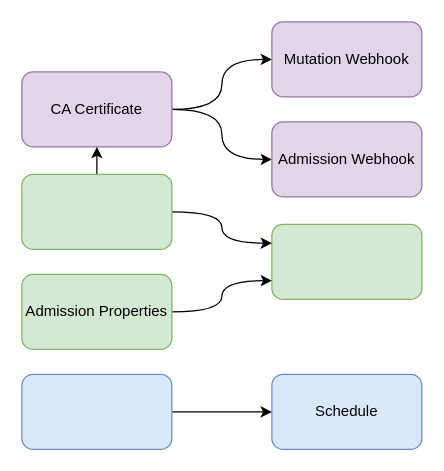
This 444x471 diagram has some shape labels left out. Here are the shapes that lost their labels. From the top down, the centre of each, then its label:
At (x=96, y=211): "Java Keystore".
At (x=346, y=261): "Admission".
At (x=96, y=411): "Schedule Properties".
